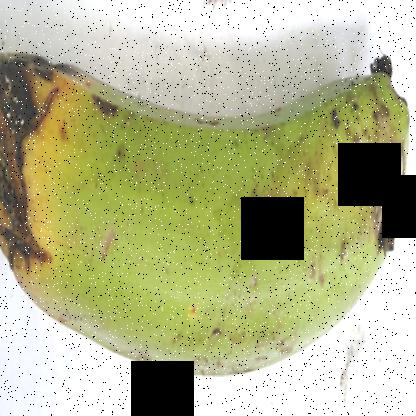rotten: (1, 30, 122, 336)
unripe: (89, 53, 400, 395)
